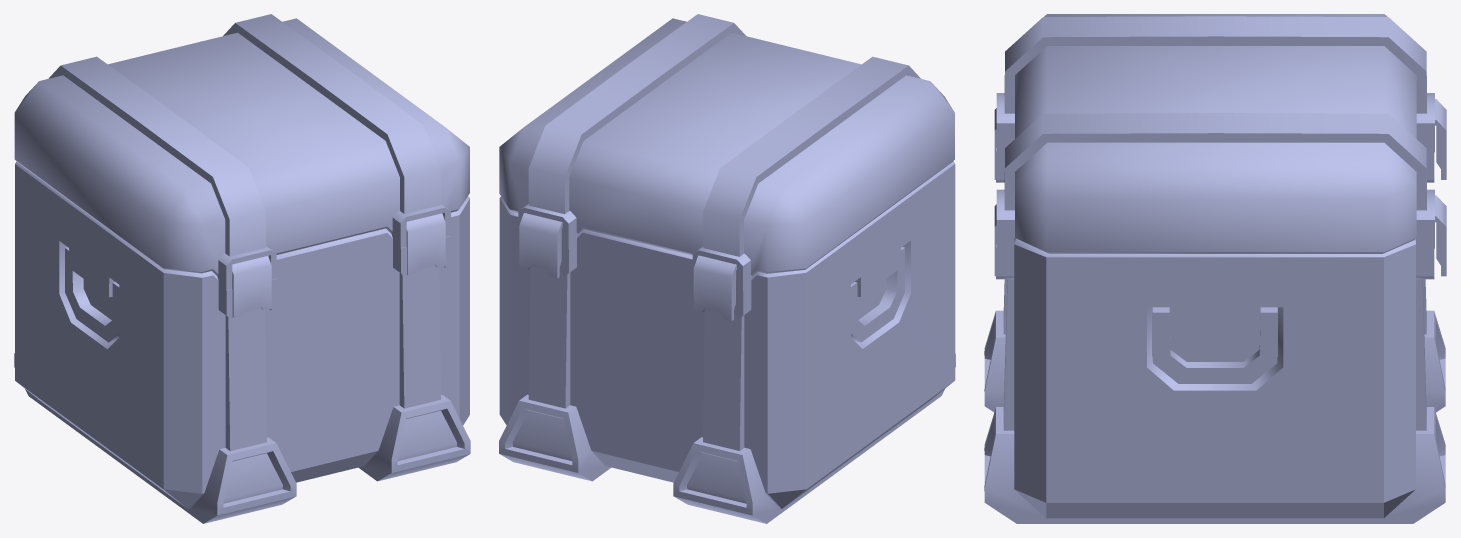
Rendered from sci-fi crate.fbx.
3 views of the same model, side by side, from view 1: azimuth 30°, elevation 25°; view 2: azimuth 150°, elevation 25°; view 3: azimuth 270°, elevation 25° (orthographic). The views are drawn at different scales.
Visible parts, largest first — view 1: crate_bottom, crate_top, handle_2, latch_handle_2, latch_handle_1; view 2: crate_bottom, crate_top, latch_handle_3, latch_handle_4, handle_2; view 3: crate_bottom, crate_top, handle_1, latch_handle_4, latch_handle_3.
Boxes of the visible parts, box(x1,y1,x2,y2) form: crate_bottom: box(14, 161, 470, 523); crate_top: box(14, 14, 469, 290); handle_2: box(65, 247, 119, 342); latch_handle_2: box(232, 256, 271, 317); latch_handle_1: box(406, 213, 445, 275); crate_bottom: box(499, 161, 955, 523); crate_top: box(499, 14, 954, 291); latch_handle_3: box(693, 255, 736, 321); latch_handle_4: box(519, 213, 562, 278); handle_2: box(851, 247, 904, 342); crate_bottom: box(984, 148, 1445, 523); crate_top: box(996, 14, 1434, 253); handle_1: box(1152, 307, 1277, 383); latch_handle_4: box(1435, 195, 1446, 276); latch_handle_3: box(1435, 99, 1446, 179).
Bounding box in the file's own units: 50 × 52.06 × 57.53.
